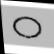no answer: (10, 15, 43, 40)
